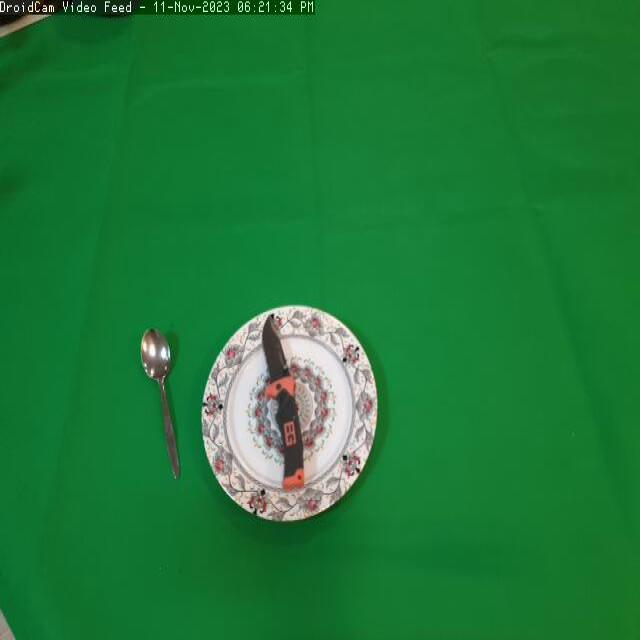knife: (255, 306, 314, 500)
plate: (198, 296, 387, 534)
spoon: (133, 310, 195, 482)
